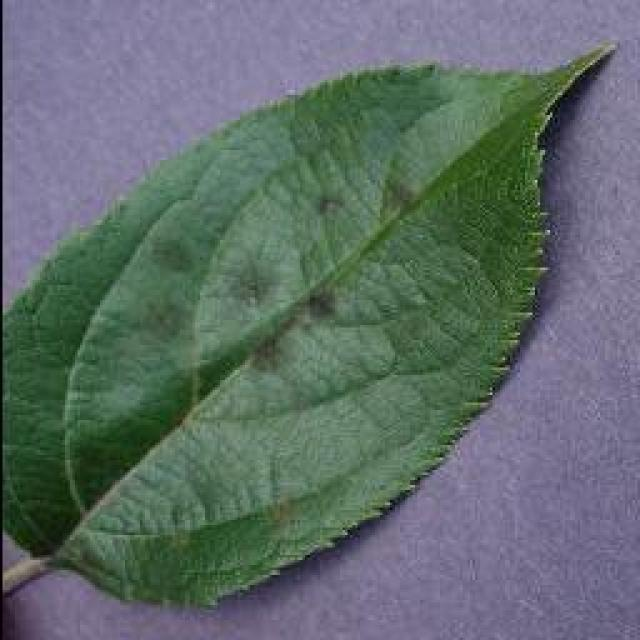apple scab disease: (0, 35, 618, 610)
